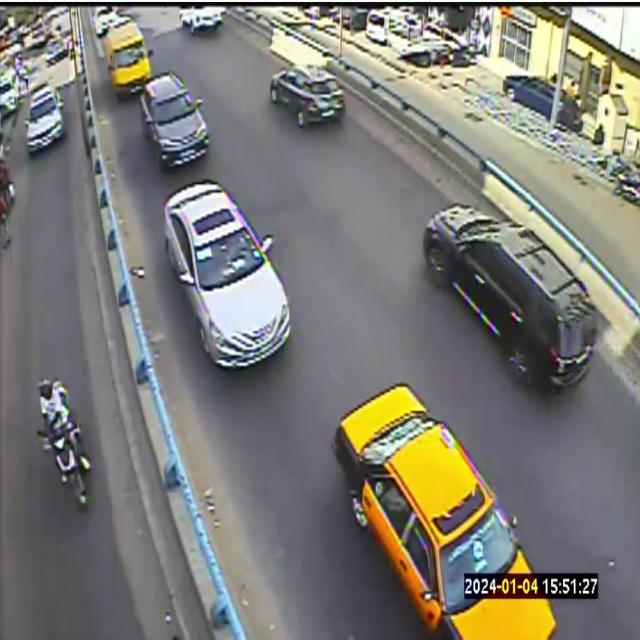car: (333, 384, 555, 639), (422, 202, 598, 387), (163, 180, 290, 367), (140, 72, 209, 168), (269, 64, 345, 128), (104, 22, 152, 97), (180, 5, 226, 35), (272, 31, 296, 53)
